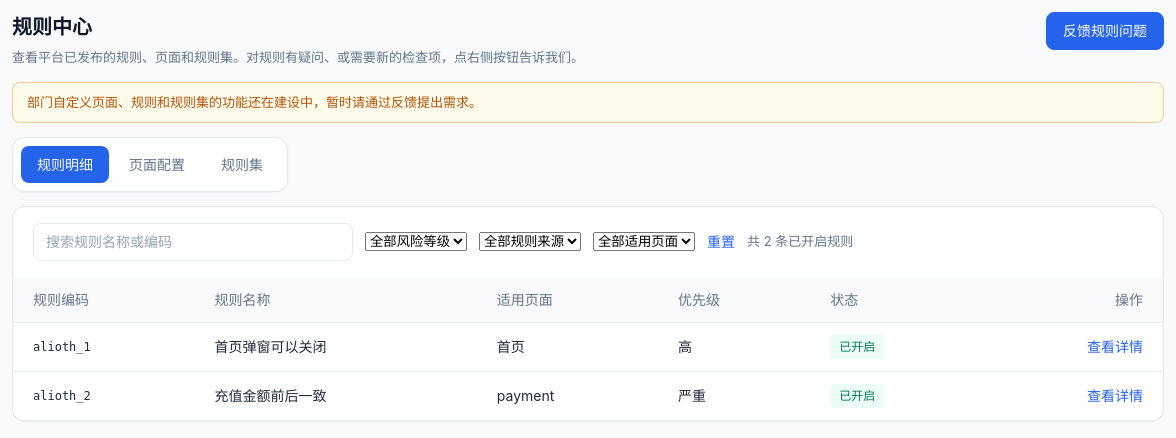
it: 部门规则中心 › 只读展示已发布的规则、页面和规则集，没有新增和编辑入口
Expected: the table with test id "rule-center-rules" shows "首页弹窗可以关闭", [215,338,327,355]
Expected: the table with test id "rule-center-rules" shows "严重", [678,387,706,404]
Type "充值" into the field with test id "rule-center-keyword" at point(193, 242), box [33,223,353,261]
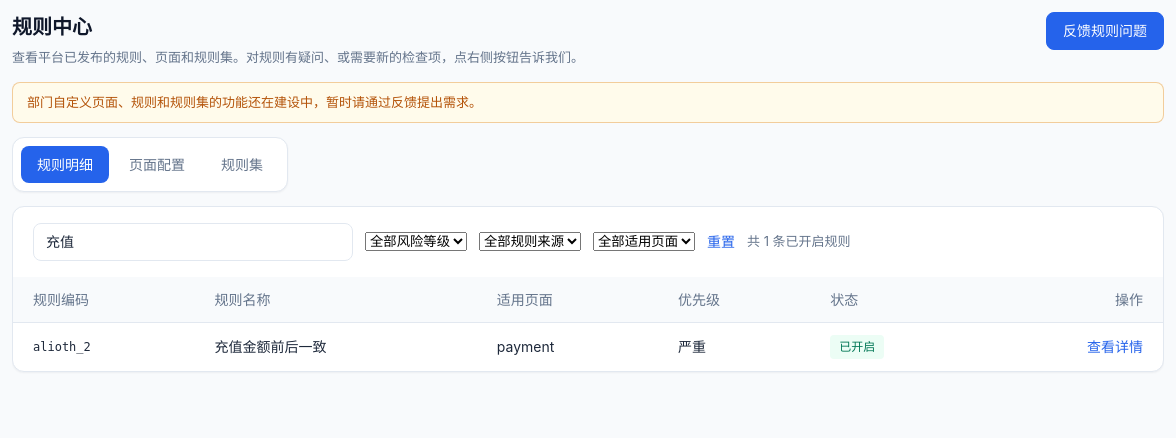
Now the text "共 1 条已开启规则" is shown, box [747,232,851,252]
Click the button with test id "rule-center-tab-pages" at point(157, 164), box [113,146,201,183]
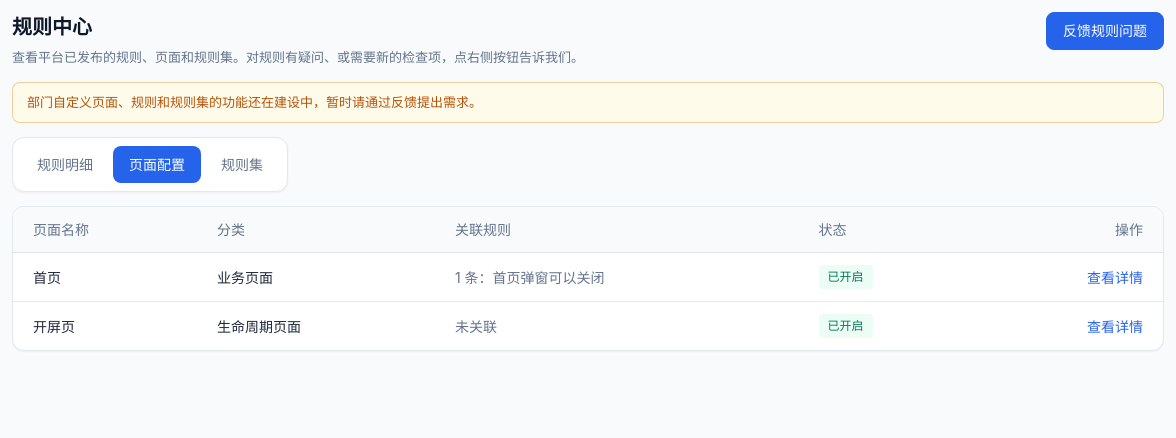
Now the table with test id "rule-center-pages" shows "1 条：首页弹窗可以关闭", box [455,268,604,286]
Now the table with test id "rule-center-pages" shows "未关联", box [455,318,497,334]
Click the button with test id "rule-center-tab-sets" at point(242, 164), box [205,146,279,183]
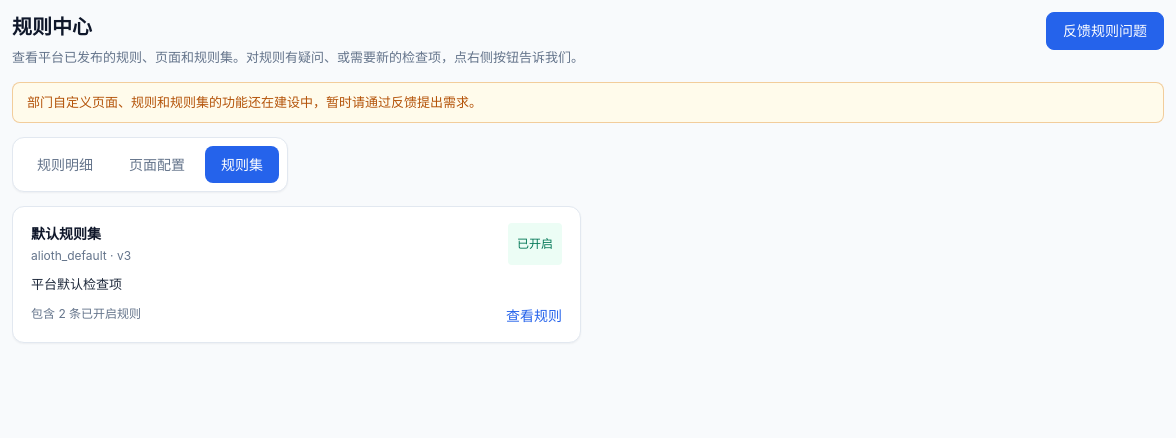
Now the element with test id "rule-center-sets" shows "包含 2 条已开启规则", box [31,306,141,320]
